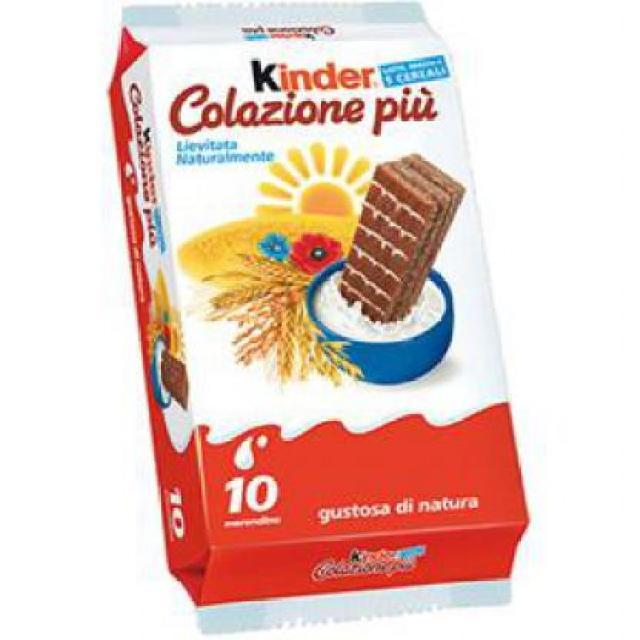Merendine: (104, 2, 532, 636)
